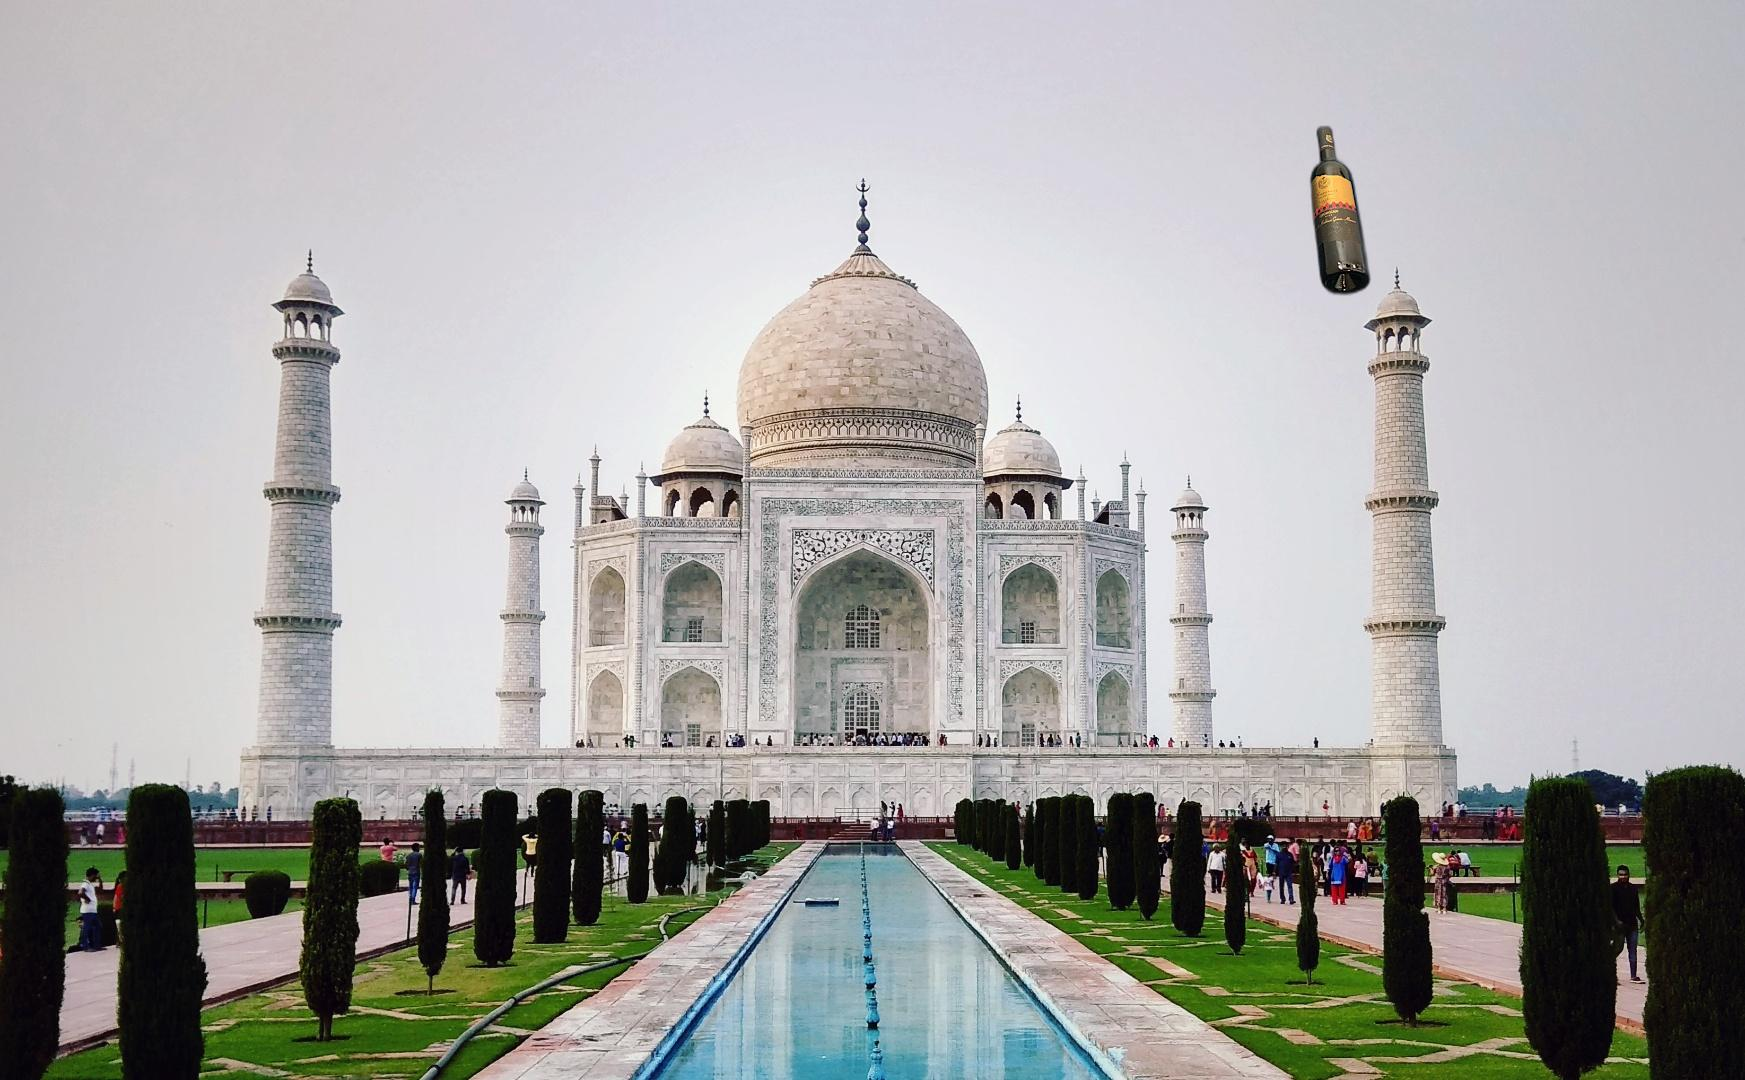biological: (1743, 215, 1745, 347)
glass: (1308, 122, 1374, 301)
penholder: (1610, 937, 1745, 1080)
